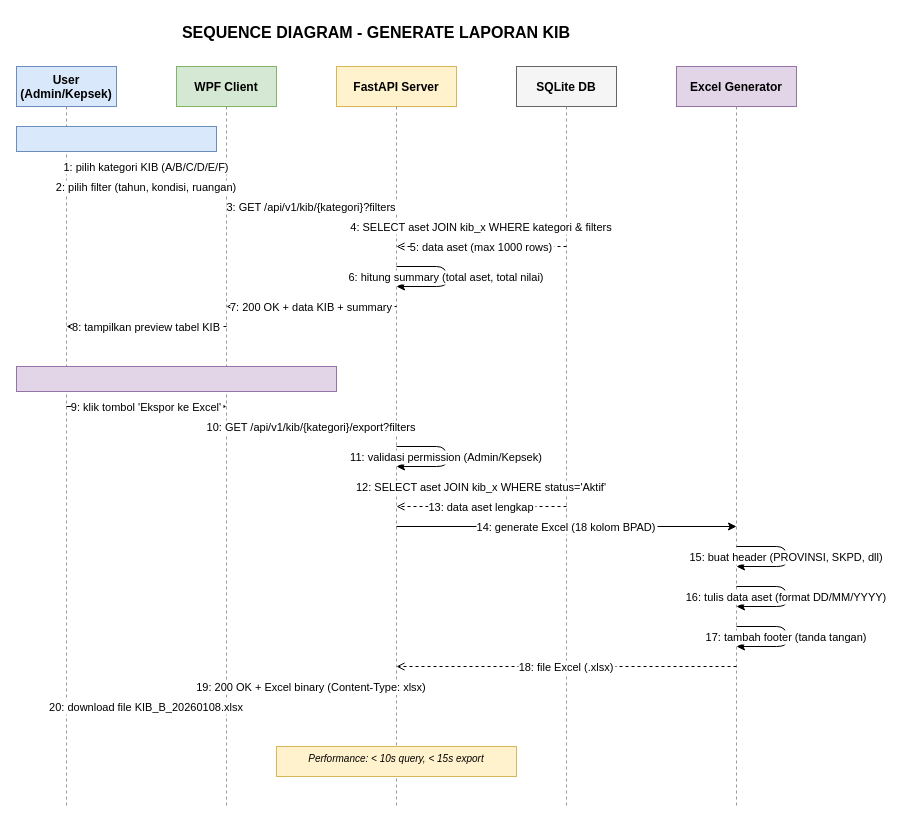
Image size: 905x823. Some labels were removed from this diagram. Here are the shapes that lost their labels. From the top down, the centre of each, then its label:
At (116,139): "VIEW KIB REPORT (Preview)".
At (176,379): "EXPORT TO EXCEL (Format BPAD DKI Jakarta)".
